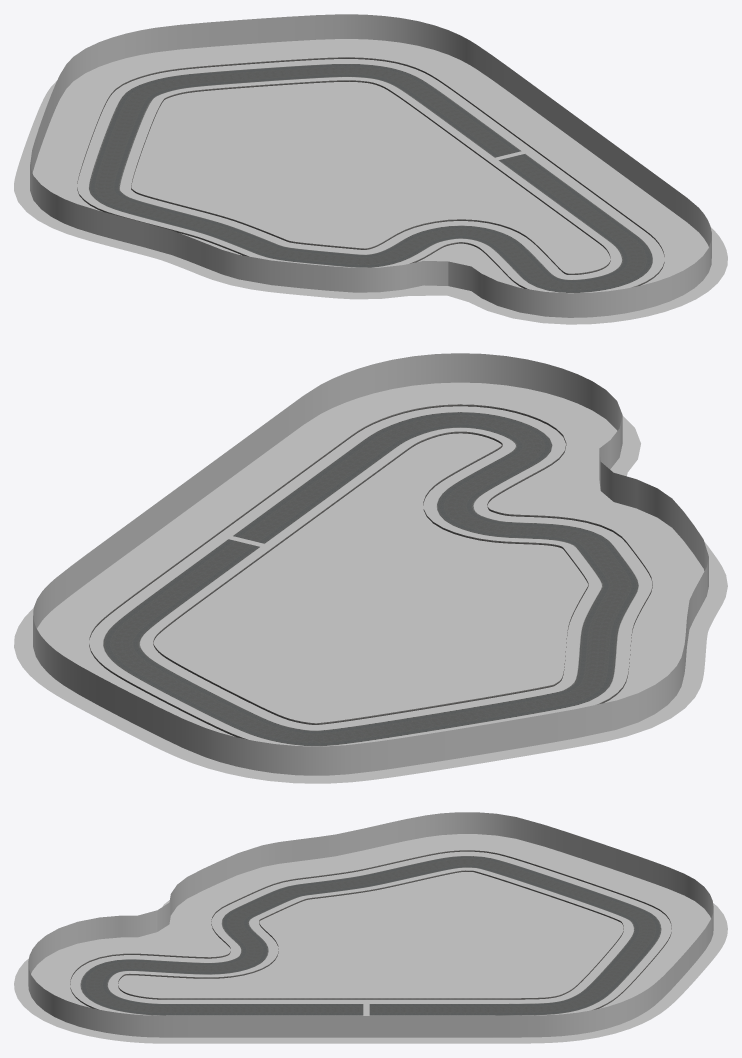
Rendered from Track1.fbx.
The picture shows the model from 3 angles, top to bottom: view 1: azimuth 30°, elevation 25°; view 2: azimuth 150°, elevation 25°; view 3: azimuth 270°, elevation 25°; orthographic projection. The views are drawn at different scales.
Parts seen in each view (by area): view 1: Track_01; view 2: Track_01; view 3: Track_01.
Boxes of the visible parts, x1,y1,x2,y2 form: Track_01: (14,14,727,324); Track_01: (14,353,727,783); Track_01: (14,812,727,1043).
Bounding box in the file's own units: 327 × 17.18 × 458.
